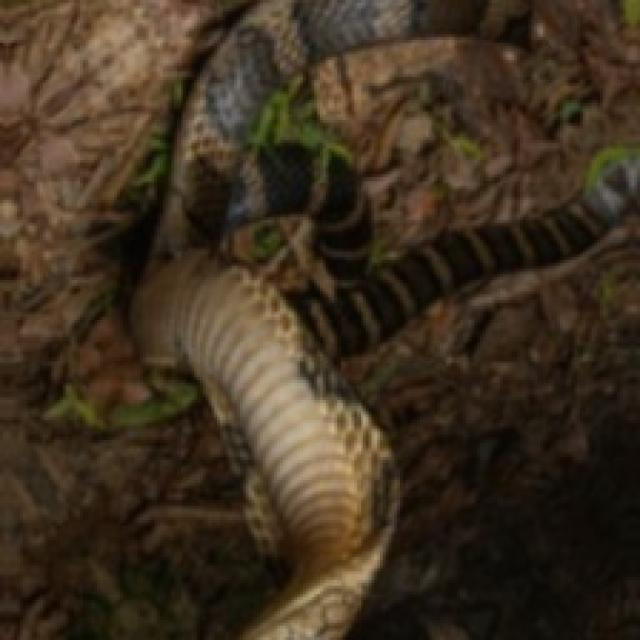king cobra: (137, 0, 637, 637)
